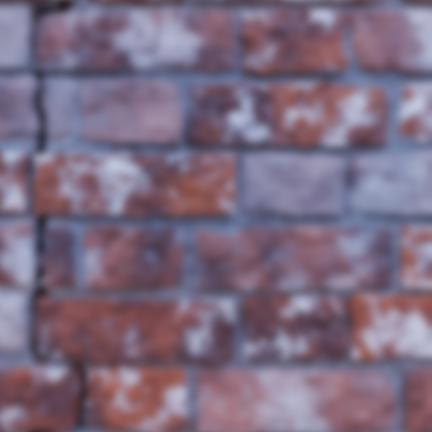brick: (35, 296, 234, 363), (33, 152, 235, 216), (193, 226, 391, 291), (187, 82, 388, 145), (195, 368, 393, 431), (242, 293, 431, 359), (34, 9, 233, 71), (241, 9, 348, 73), (85, 366, 187, 431), (80, 79, 182, 142), (242, 152, 344, 214), (83, 226, 184, 287), (348, 9, 431, 72), (348, 152, 431, 213), (0, 367, 78, 429), (396, 82, 431, 141), (399, 225, 431, 287), (403, 368, 431, 431), (0, 8, 27, 69), (0, 151, 27, 211), (0, 294, 25, 349), (0, 393, 18, 430), (131, 0, 150, 2), (274, 0, 305, 1), (349, 0, 367, 1), (99, 0, 114, 1)
broken_brick: (0, 75, 36, 139), (41, 225, 76, 287), (0, 222, 33, 285), (43, 79, 74, 141)
crack: (0, 0, 86, 431), (339, 387, 390, 431), (87, 226, 129, 274), (199, 315, 223, 362), (169, 319, 193, 361), (137, 227, 152, 254), (381, 7, 408, 19), (423, 408, 431, 426), (419, 393, 431, 397)
